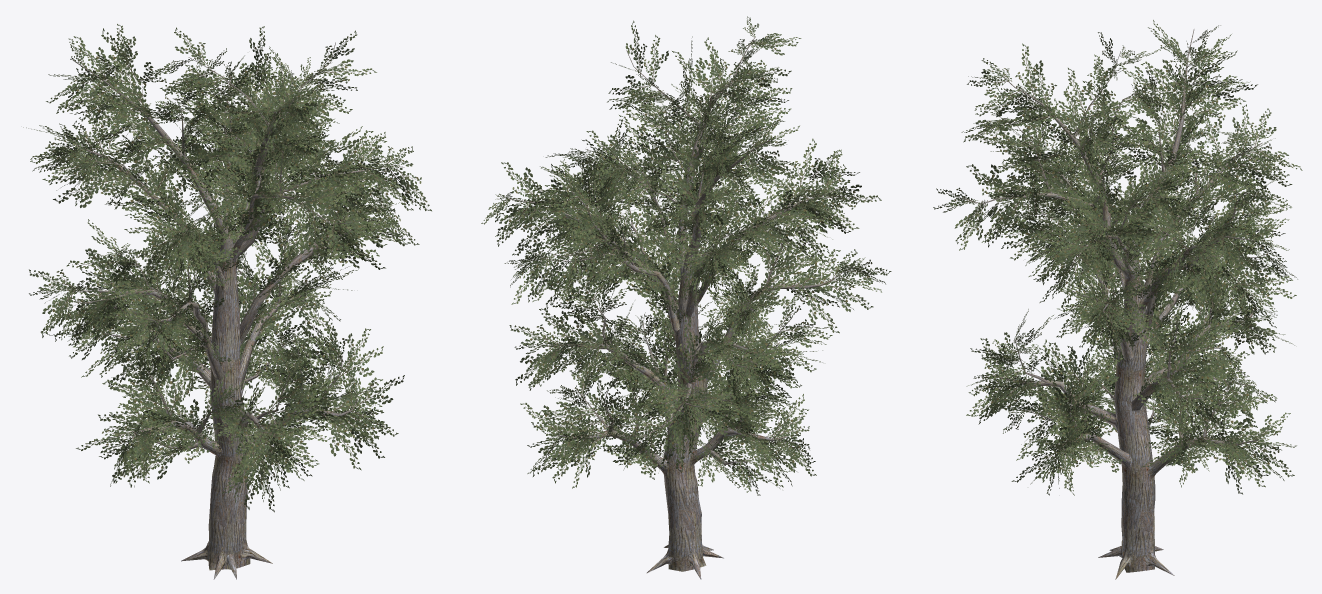
The model's file is SM_Ash01_.fbx.
3 renders of one model, left to right at view 1: azimuth 30°, elevation 25°; view 2: azimuth 150°, elevation 25°; view 3: azimuth 270°, elevation 25°, orthographic. The views are drawn at different scales.
Parts seen in each view (by area): view 1: Ash01_LOD1; view 2: Ash01_LOD1; view 3: Ash01_LOD1.
Part boxes in pixels (x1,y1,x2,y2): Ash01_LOD1: (23, 24, 431, 579); Ash01_LOD1: (481, 16, 891, 579); Ash01_LOD1: (933, 20, 1302, 579).
Bounding box in the file's own units: 1091 × 1657 × 1106.
